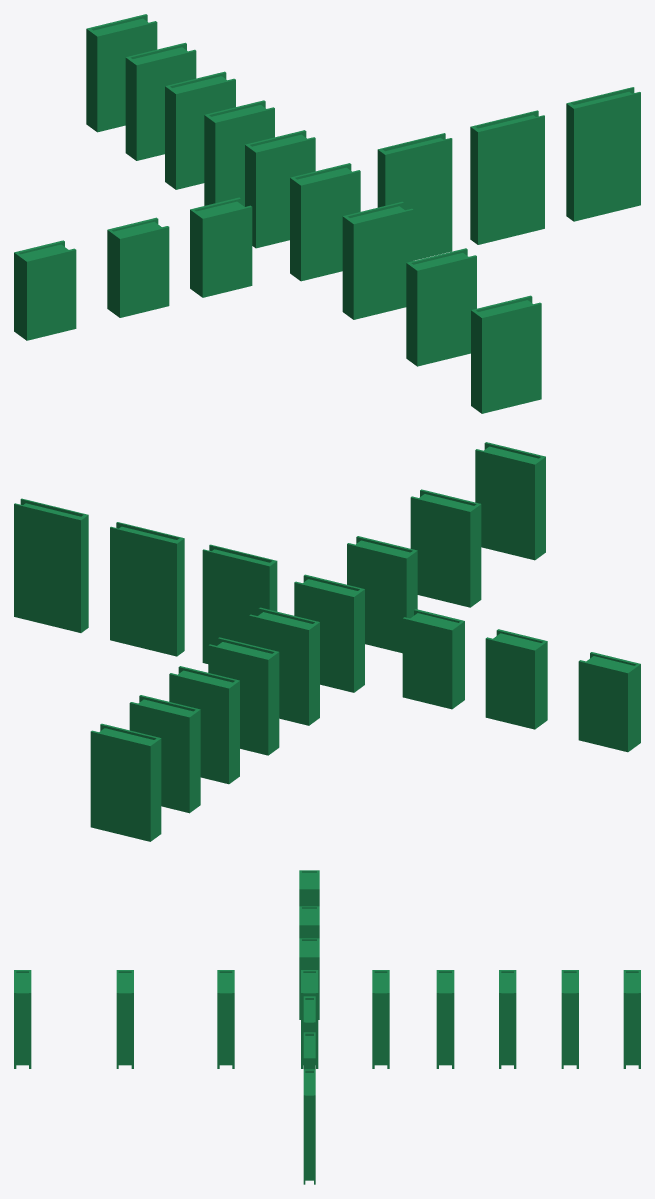
Rendered from S_BiblioBooksTextures.fbx.
The picture shows the model from 3 angles, top to bottom: view 1: azimuth 30°, elevation 25°; view 2: azimuth 150°, elevation 25°; view 3: azimuth 270°, elevation 25°; orthographic projection. The views are drawn at different scales.
Parts seen in each view (by area): view 1: S_BookBaseBigV2, S_BookBaseBigV3, S_BookBaseMediumV3, S_BookBaseMediumV1, S_BookBaseMediumV2, S_BookBaseBigV1, S_BookBaseMediumSpecialV1, S_BookBaseSmallV3, S_BookBaseSmallV2, S_BookBaseSmallV1, S_BookBaseMediumSpecialV2, S_BookBaseMediumSpecialV5 (+3 smaller); view 2: S_BookBaseBigV2, S_BookBaseBigV3, S_BookBaseMediumSpecialV6, S_BookBaseMediumV2, S_BookBaseMediumV3, S_BookBaseBigV1, S_BookBaseMediumV1, S_BookBaseMediumSpecialV1, S_BookBaseSmallV2, S_BookBaseSmallV3, S_BookBaseSmallV1, S_BookBaseMediumSpecialV2 (+3 smaller); view 3: S_BookBaseMediumSpecialV3, S_BookBaseMediumV1, S_BookBaseMediumV2, S_BookBaseMediumV3, S_BookBaseMediumSpecialV2, S_BookBaseMediumSpecialV4, S_BookBaseMediumSpecialV5, S_BookBaseMediumSpecialV6, S_BookBaseBigV3, S_BookBaseMediumSpecialV1, S_BookBaseSmallV1, S_BookBaseSmallV3 (+3 smaller).
Boxes of the visible parts, bbox=[...] form: S_BookBaseBigV2: bbox=[470, 110, 544, 244]; S_BookBaseBigV3: bbox=[566, 87, 640, 221]; S_BookBaseMediumV3: bbox=[471, 295, 541, 413]; S_BookBaseMediumV1: bbox=[342, 201, 413, 319]; S_BookBaseMediumV2: bbox=[406, 248, 476, 366]; S_BookBaseBigV1: bbox=[377, 133, 452, 260]; S_BookBaseMediumSpecialV1: bbox=[290, 163, 360, 281]; S_BookBaseSmallV3: bbox=[14, 240, 76, 340]; S_BookBaseSmallV2: bbox=[107, 217, 169, 317]; S_BookBaseSmallV1: bbox=[190, 197, 252, 297]; S_BookBaseMediumSpecialV2: bbox=[245, 130, 315, 248]; S_BookBaseMediumSpecialV5: bbox=[125, 42, 196, 160]; S_BookBaseBigV2: bbox=[110, 522, 184, 656]; S_BookBaseBigV3: bbox=[14, 498, 88, 632]; S_BookBaseMediumSpecialV6: bbox=[90, 723, 161, 841]; S_BookBaseMediumV2: bbox=[410, 489, 481, 607]; S_BookBaseMediumV3: bbox=[475, 442, 545, 560]; S_BookBaseBigV1: bbox=[202, 544, 277, 663]; S_BookBaseMediumV1: bbox=[347, 536, 417, 653]; S_BookBaseMediumSpecialV1: bbox=[294, 574, 364, 692]; S_BookBaseSmallV2: bbox=[485, 629, 547, 729]; S_BookBaseSmallV3: bbox=[578, 652, 640, 752]; S_BookBaseSmallV1: bbox=[402, 609, 464, 709]; S_BookBaseMediumSpecialV2: bbox=[249, 607, 319, 725]; S_BookBaseMediumSpecialV3: bbox=[436, 970, 454, 1068]; S_BookBaseMediumV1: bbox=[217, 970, 234, 1068]; S_BookBaseMediumV2: bbox=[116, 970, 133, 1068]; S_BookBaseMediumV3: bbox=[14, 970, 31, 1068]; S_BookBaseMediumSpecialV2: bbox=[372, 970, 389, 1068]; S_BookBaseMediumSpecialV4: bbox=[499, 970, 516, 1068]; S_BookBaseMediumSpecialV5: bbox=[561, 970, 578, 1068]; S_BookBaseMediumSpecialV6: bbox=[623, 970, 640, 1068]; S_BookBaseBigV3: bbox=[303, 1069, 315, 1184]; S_BookBaseMediumSpecialV1: bbox=[301, 970, 318, 1068]; S_BookBaseSmallV1: bbox=[299, 938, 319, 1019]; S_BookBaseSmallV3: bbox=[299, 870, 319, 906].
Size of the model in its own units: 1.24 by 0.2172 by 1.38.
